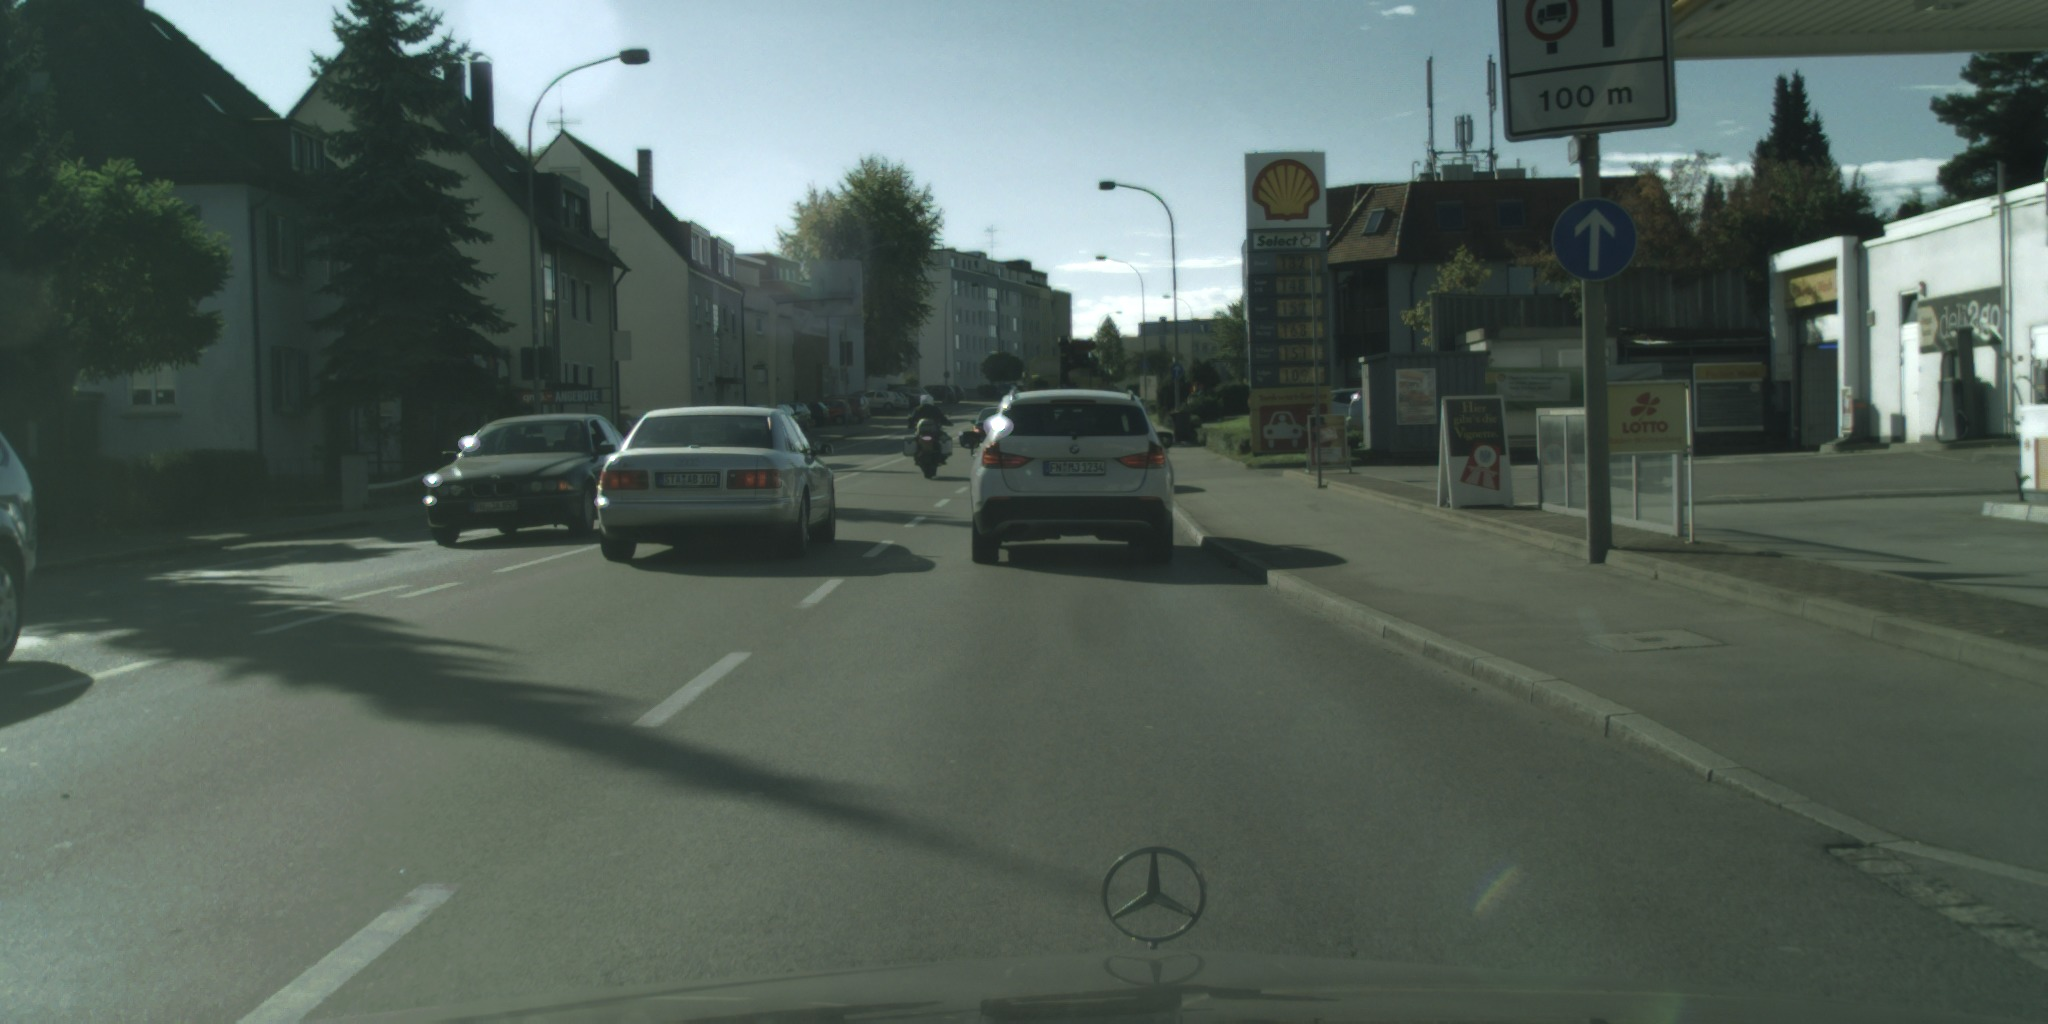car: (959, 388, 1176, 567), (595, 405, 838, 563), (424, 412, 625, 547), (0, 431, 38, 666), (1325, 387, 1366, 435), (972, 406, 1001, 457), (838, 395, 870, 424), (823, 398, 853, 424), (791, 402, 812, 428), (807, 401, 830, 424), (779, 404, 800, 424)
motorcycle: (900, 417, 955, 483)
rider: (909, 394, 952, 465)
